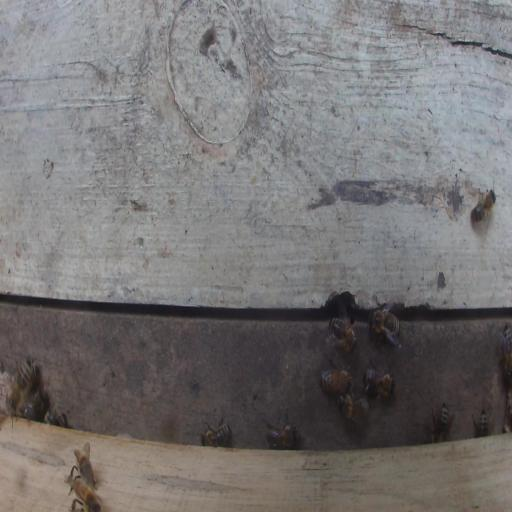bee: (9, 356, 34, 412), (329, 318, 358, 355), (74, 479, 102, 512), (469, 189, 496, 223), (318, 371, 353, 397), (369, 308, 400, 336), (363, 370, 395, 396), (339, 394, 368, 420), (76, 451, 95, 489), (200, 425, 228, 448), (269, 424, 297, 445), (433, 404, 448, 443), (35, 390, 47, 420), (478, 409, 488, 436), (504, 320, 512, 353), (50, 412, 67, 427)
